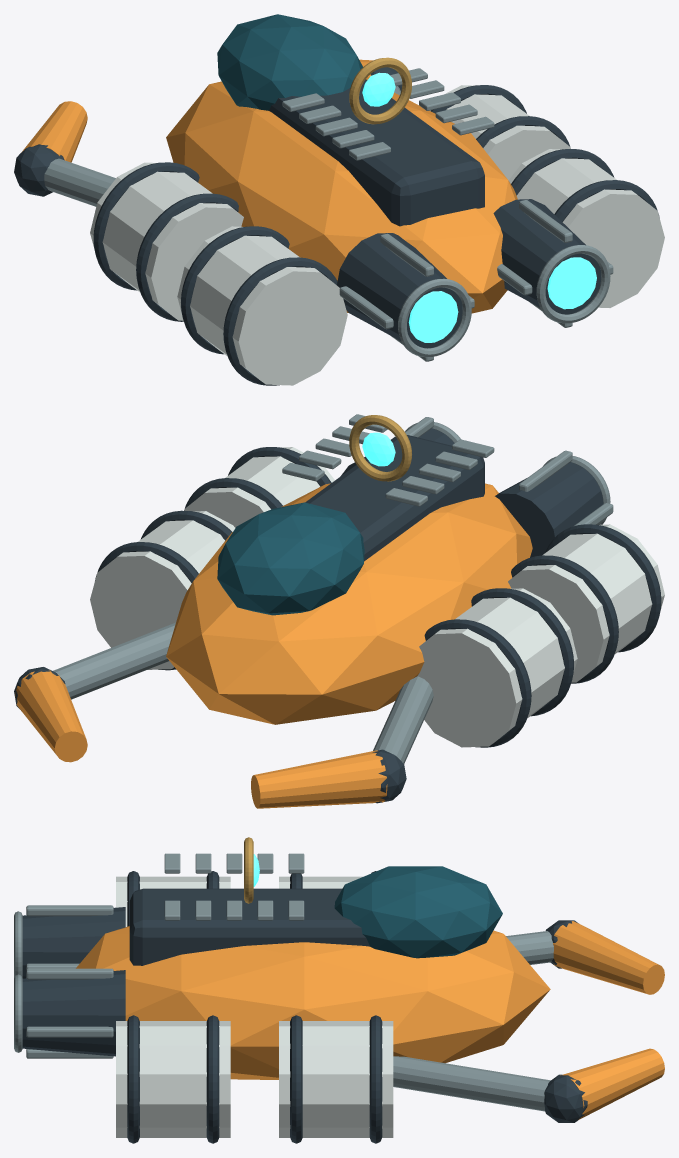
Rendered from erlea_miner.glb.
3 views of the same model, one above another, from view 1: azimuth 30°, elevation 25°; view 2: azimuth 150°, elevation 25°; view 3: azimuth 270°, elevation 25° (orthographic). The views are drawn at different scales.
Visible parts, largest first — view 1: erlea_miner_mesh, Sensor_gimbal_mesh; view 2: erlea_miner_mesh, Sensor_gimbal_mesh; view 3: erlea_miner_mesh, Sensor_gimbal_mesh.
Boxes of the visible parts, <box> form: erlea_miner_mesh: <box>14,14,664,385</box>; Sensor_gimbal_mesh: <box>349,57,411,124</box>; erlea_miner_mesh: <box>14,414,664,808</box>; Sensor_gimbal_mesh: <box>349,415,411,481</box>; erlea_miner_mesh: <box>14,853,664,1143</box>; Sensor_gimbal_mesh: <box>244,837,259,903</box>.
Size of the model in its own units: 5.92 by 3.13 by 8.19.
